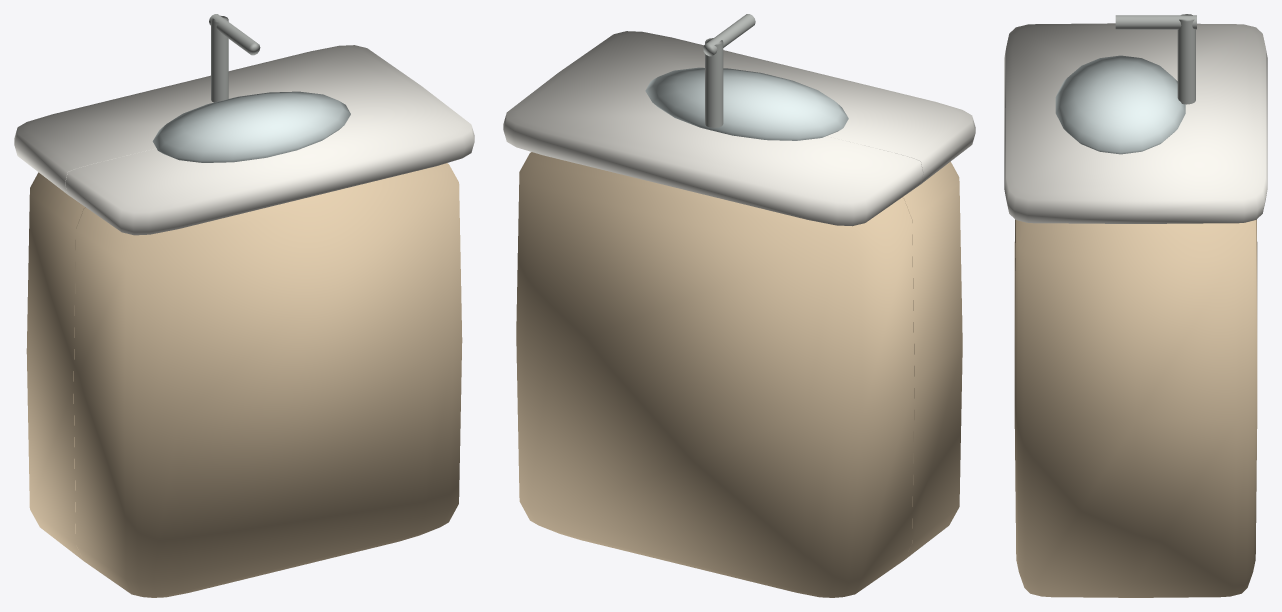
Rendered from vanity_800x500.glb.
The picture shows the model from 3 angles, left to right: view 1: azimuth 30°, elevation 25°; view 2: azimuth 150°, elevation 25°; view 3: azimuth 270°, elevation 25°; orthographic projection. The views are drawn at different scales.
Visible parts, largest first — view 1: vanity_base, stone_counter, recessed_basin, faucet_neck, faucet_spout; view 2: vanity_base, stone_counter, recessed_basin, faucet_neck, faucet_spout; view 3: vanity_base, stone_counter, recessed_basin, faucet_neck, faucet_spout.
Part boxes in pixels (x1=…): vanity_base: x1=26, y1=163, x2=462, y2=597; stone_counter: x1=14, y1=45, x2=474, y2=235; recessed_basin: x1=152, y1=91, x2=350, y2=162; faucet_neck: x1=211, y1=15, x2=228, y2=102; faucet_spout: x1=209, y1=14, x2=260, y2=55; vanity_base: x1=516, y1=152, x2=962, y2=597; stone_counter: x1=503, y1=31, x2=975, y2=226; recessed_basin: x1=645, y1=67, x2=848, y2=140; faucet_neck: x1=705, y1=38, x2=723, y2=127; faucet_spout: x1=703, y1=14, x2=755, y2=56; vanity_base: x1=1014, y1=219, x2=1257, y2=597; stone_counter: x1=1004, y1=23, x2=1267, y2=223; recessed_basin: x1=1055, y1=55, x2=1185, y2=154; faucet_neck: x1=1177, y1=14, x2=1195, y2=104; faucet_spout: x1=1115, y1=15, x2=1196, y2=29.
Bounding box in the file's own units: 0.84 × 1.11 × 0.5186.
